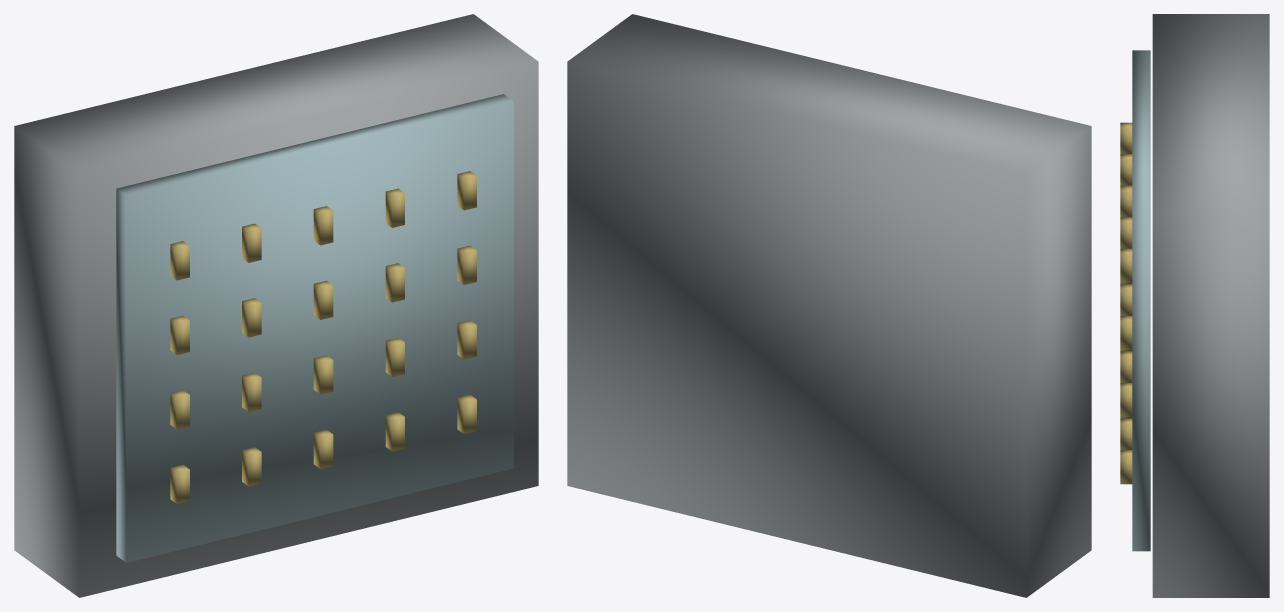
The model's file is wall_key_cabinet__squat.glb.
The picture shows the model from 3 angles, left to right: view 1: azimuth 30°, elevation 25°; view 2: azimuth 150°, elevation 25°; view 3: azimuth 270°, elevation 25°; orthographic projection. The views are drawn at different scales.
Parts seen in each view (by area): view 1: world; view 2: world; view 3: world.
Boxes of the visible parts, box(x1,y1,x2,y2) form: world: box(14, 14, 538, 597); world: box(567, 14, 1091, 597); world: box(1120, 14, 1269, 597).
Bounding box in the file's own units: 0.704 × 0.6216 × 0.2203.
